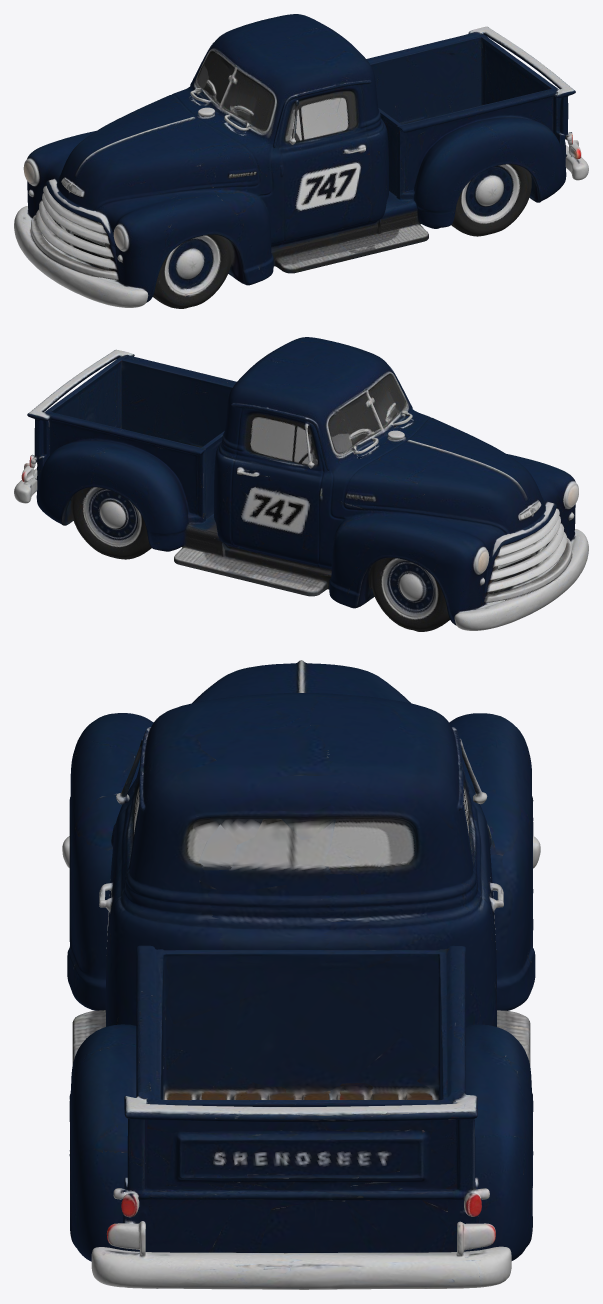
File: Meshy_AI_Supposedly_Stock_55_20261118_texture_181650tris.glb
3 views of the same model, one above another, from view 1: azimuth 30°, elevation 25°; view 2: azimuth 150°, elevation 25°; view 3: azimuth 270°, elevation 25° (orthographic). The views are drawn at different scales.
Parts seen in each view (by area): view 1: Mesh_0; view 2: Mesh_0; view 3: Mesh_0.
Boxes of the visible parts, box(x1,y1,x2,y2) form: Mesh_0: box(14, 14, 588, 308); Mesh_0: box(14, 337, 588, 631); Mesh_0: box(62, 660, 540, 1289).
Size of the model in its own units: 190 by 70.2 by 78.59.
1 material, 1 textured.
